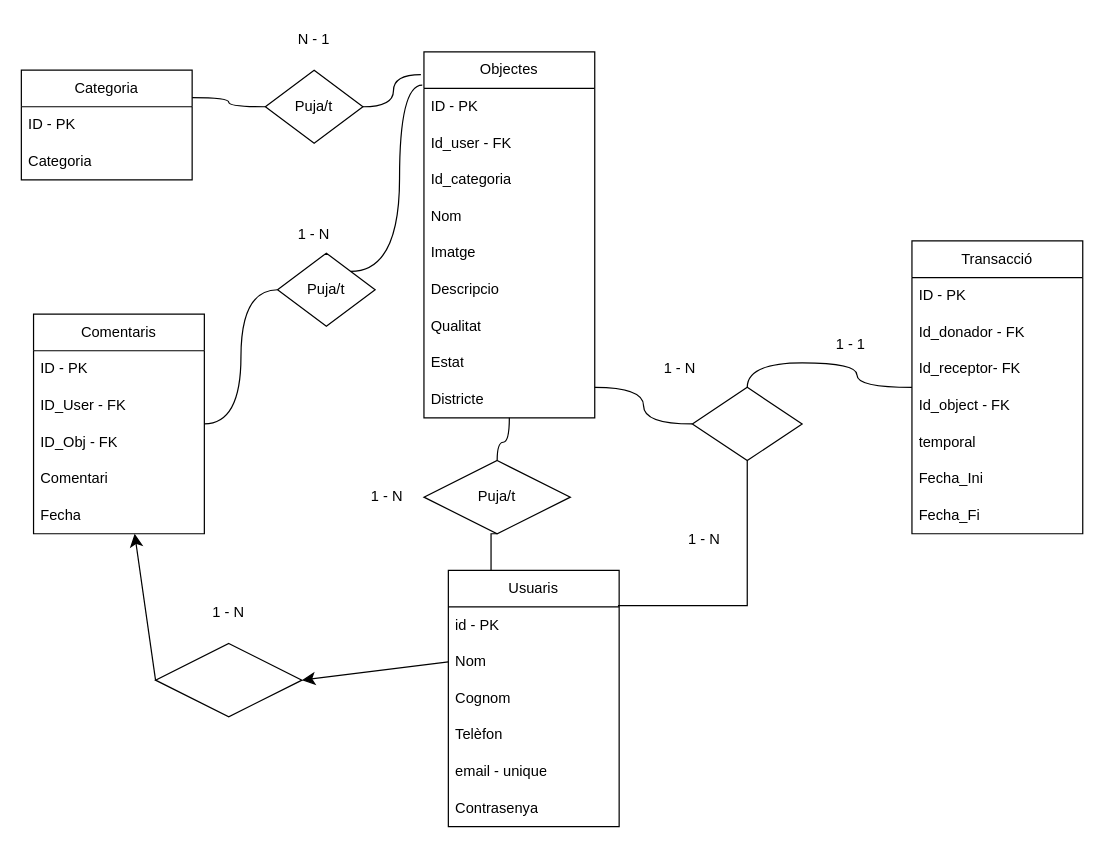
Image size: 1104x848. Some labels were removed from this diagram. Here are the shapes that lost their labels. From the top down, the centre of each, then its label:
[746,423]: Realitza
[228,679]: Posa
